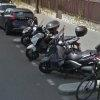Motorcycle: (21, 18, 96, 74)
